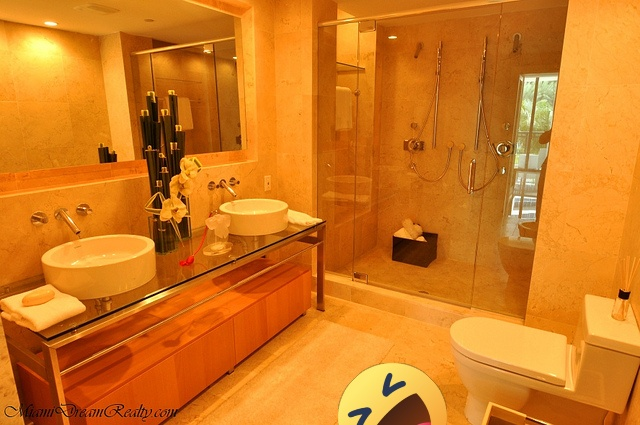haha: (338, 363, 447, 425)
